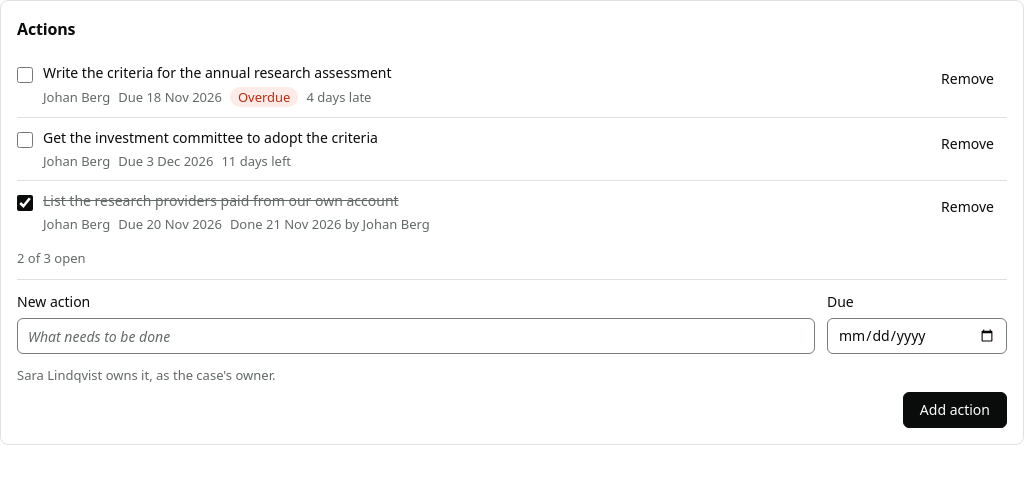
Test case: adding an action › renders the server’s 422 against the title
This screenshot has width=1024, height=486.
Expected: the text "Write the criteria for the annual research assessment" is shown, [43,63,392,82]
Click the button "Add action" at (955, 410), box [903,392,1007,428]
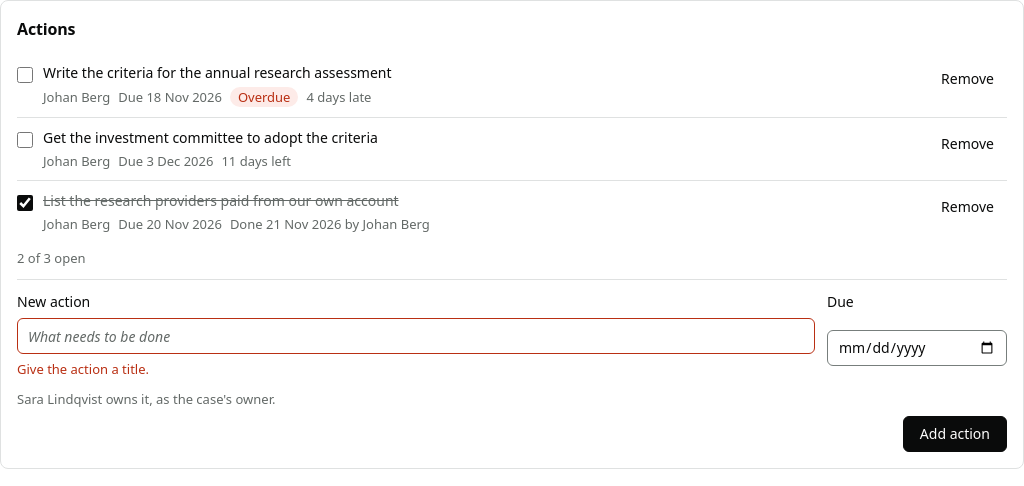
Expected: the text "Give the action a title." is shown, [17,360,149,378]
